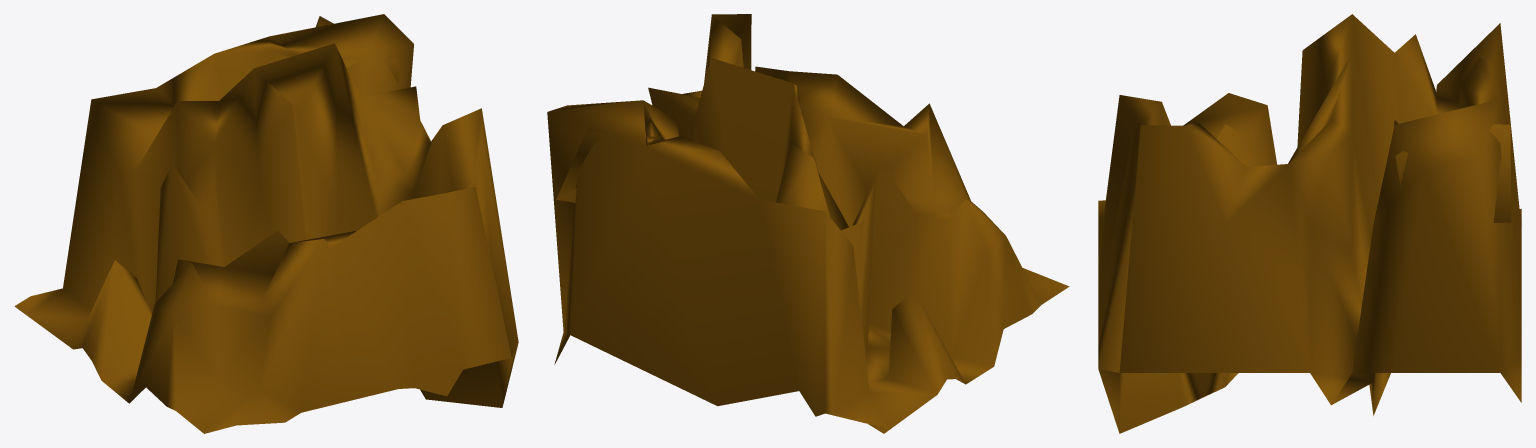
The model's file is Terrain_Level1.fbx.
3 renders of one model, left to right at view 1: azimuth 30°, elevation 25°; view 2: azimuth 150°, elevation 25°; view 3: azimuth 270°, elevation 25°, orthographic. The views are drawn at different scales.
Visible parts, largest first — view 1: Terrain; view 2: Terrain; view 3: Terrain.
Boxes of the visible parts, left/top/right/bottom form: Terrain: left=14, top=14, right=518, bottom=433; Terrain: left=547, top=14, right=1069, bottom=433; Terrain: left=1098, top=14, right=1521, bottom=433.
Size of the model in its own units: 3306 by 2775 by 3000.
